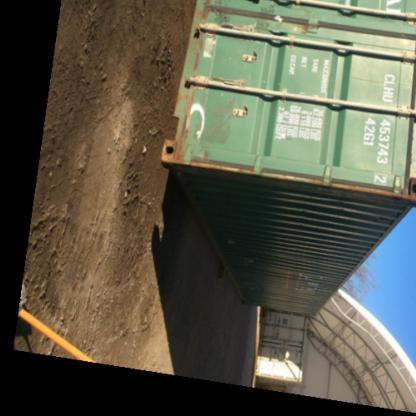Damage: (186, 88, 234, 154), (197, 0, 243, 32), (249, 0, 289, 34)
